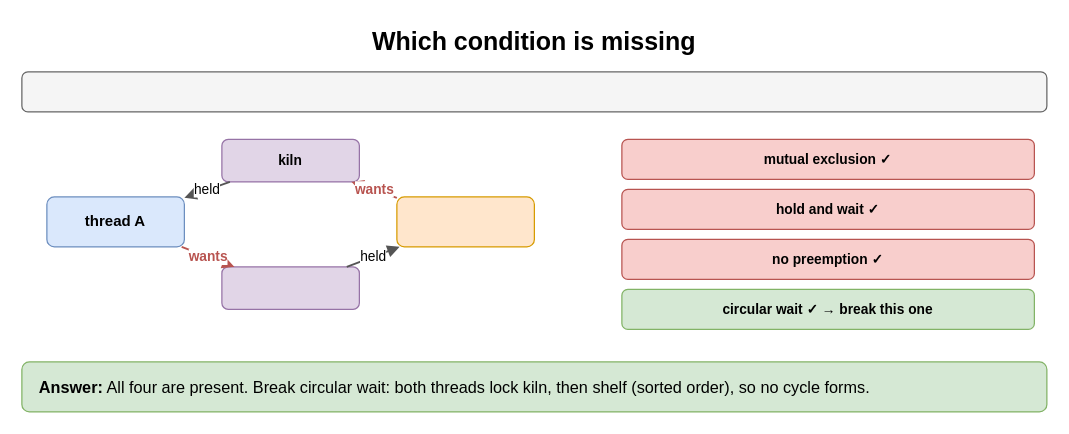
This 1069x434 diagram has some shape labels left out. The shapes that lost their labels are listed below. From the top down, each one's centre as x and y in pixels, then its label:
(x=534, y=91): A holds kiln, wants shelf. B holds shelf, wants kiln. Both wait
(x=465, y=221): thread B
(x=290, y=287): shelf
